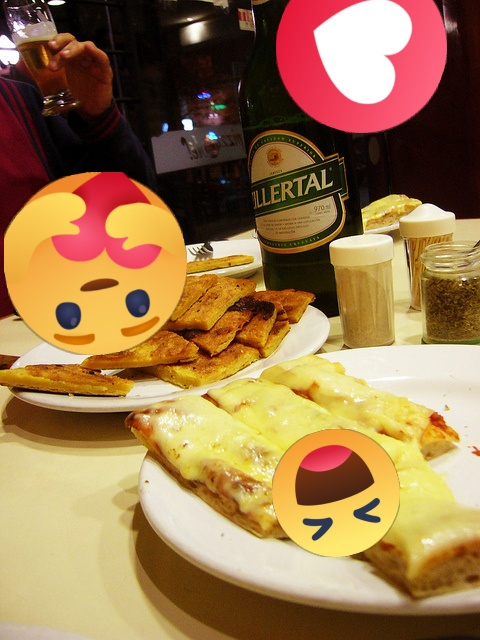care: (4, 172, 187, 355)
haha: (272, 429, 400, 557)
love: (276, 0, 447, 133)
